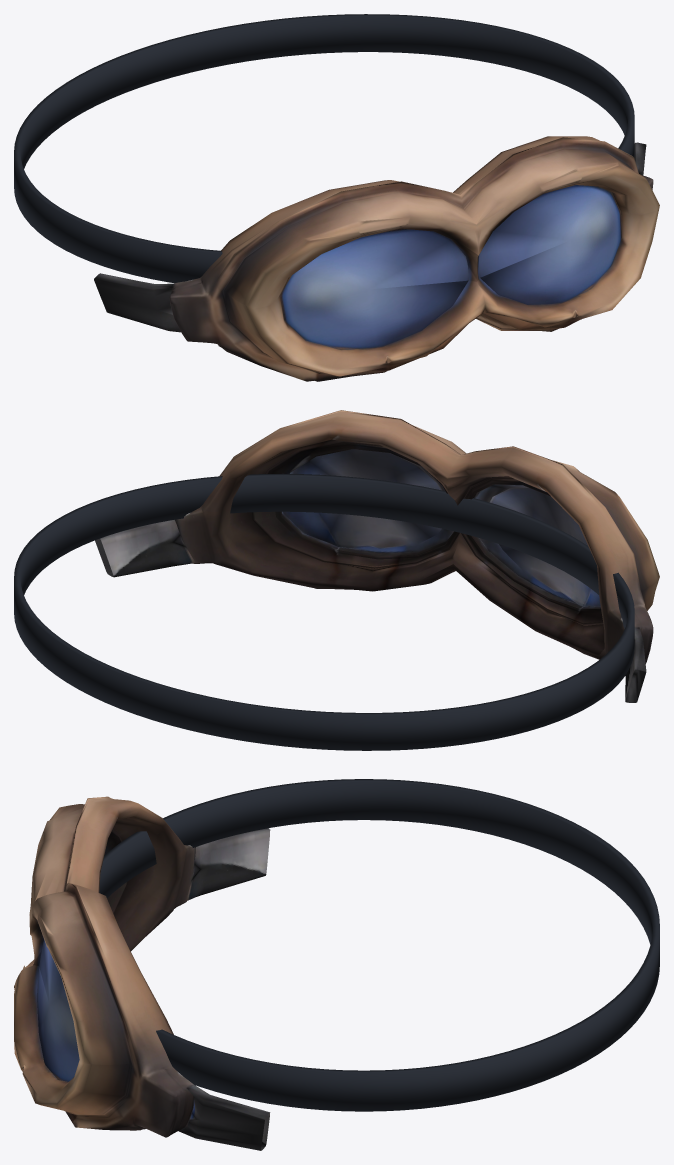
Rendered from moonflight-goggles.glb.
The picture shows the model from 3 angles, top to bottom: view 1: azimuth 30°, elevation 25°; view 2: azimuth 150°, elevation 25°; view 3: azimuth 270°, elevation 25°; orthographic projection. The views are drawn at different scales.
Parts seen in each view (by area): view 1: xinglan_moonflight-goggles.001; view 2: xinglan_moonflight-goggles.001; view 3: xinglan_moonflight-goggles.001.
Boxes of the visible parts, x1=… form: xinglan_moonflight-goggles.001: x1=14, y1=14, x2=659, y2=381; xinglan_moonflight-goggles.001: x1=14, y1=410, x2=659, y2=750; xinglan_moonflight-goggles.001: x1=14, y1=779, x2=659, y2=1150.
Size of the model in its own units: 0.398 by 0.1262 by 0.3689.
2 materials, 1 textured.
